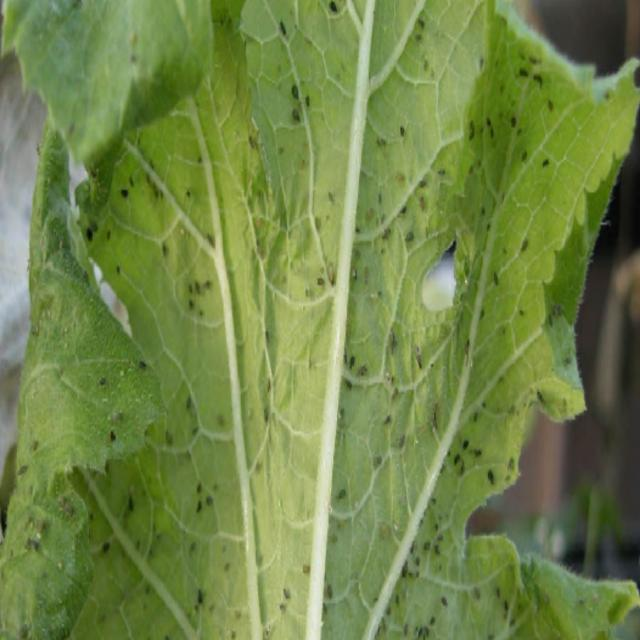Aphids: (344, 339, 446, 496), (172, 188, 232, 336), (418, 216, 476, 338), (77, 200, 137, 288), (467, 90, 512, 190), (448, 418, 506, 490), (394, 518, 452, 584), (307, 222, 347, 313), (182, 466, 230, 536), (158, 384, 204, 456), (515, 128, 567, 189), (521, 47, 567, 113), (376, 188, 414, 260), (402, 603, 464, 640), (289, 68, 322, 136), (256, 360, 284, 439), (21, 507, 58, 565), (192, 574, 222, 628), (270, 564, 300, 618), (510, 211, 536, 270), (406, 0, 433, 55), (108, 168, 154, 200), (491, 574, 516, 630), (382, 108, 415, 148), (272, 0, 293, 58), (101, 416, 127, 462), (90, 352, 114, 400), (473, 44, 496, 88), (122, 494, 154, 524), (317, 250, 337, 292), (94, 528, 115, 566), (323, 580, 337, 634), (485, 266, 508, 298), (15, 450, 32, 492), (135, 350, 153, 384), (299, 554, 315, 588)
